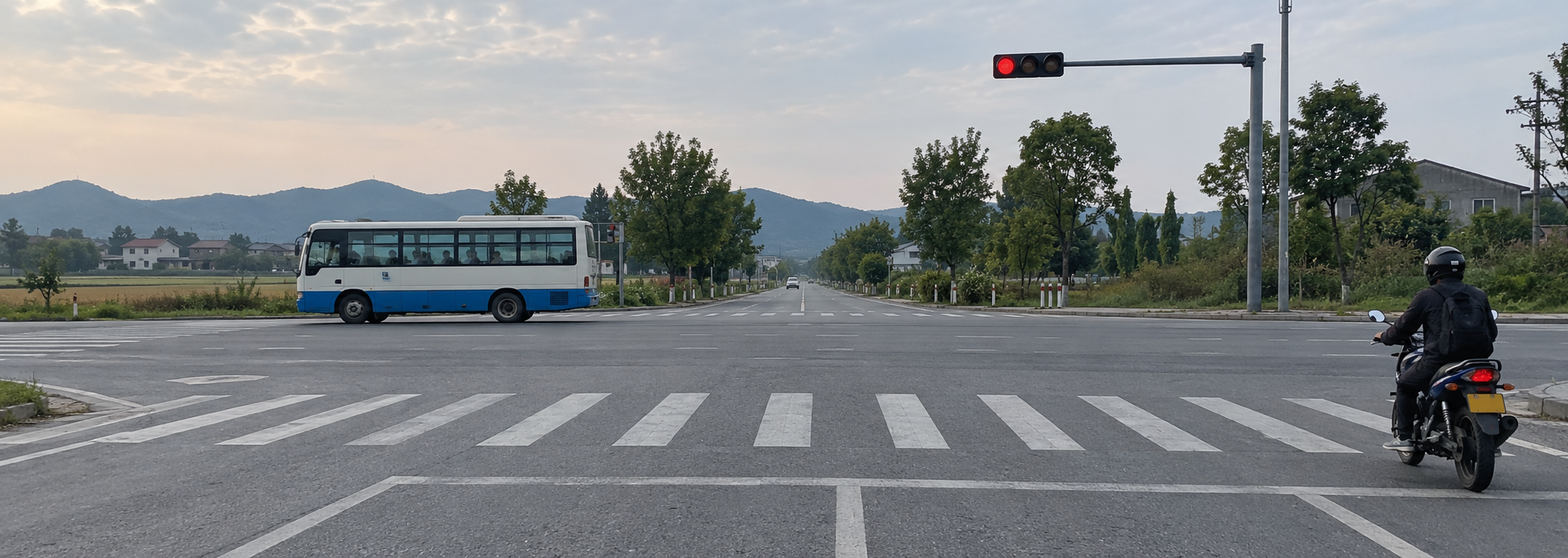bus: (287, 212, 585, 315)
motorcycle: (1331, 298, 1478, 483)
person: (1343, 239, 1463, 436)
traffic_light: (965, 51, 1037, 77)
zebra_crossing: (0, 380, 1331, 448)
